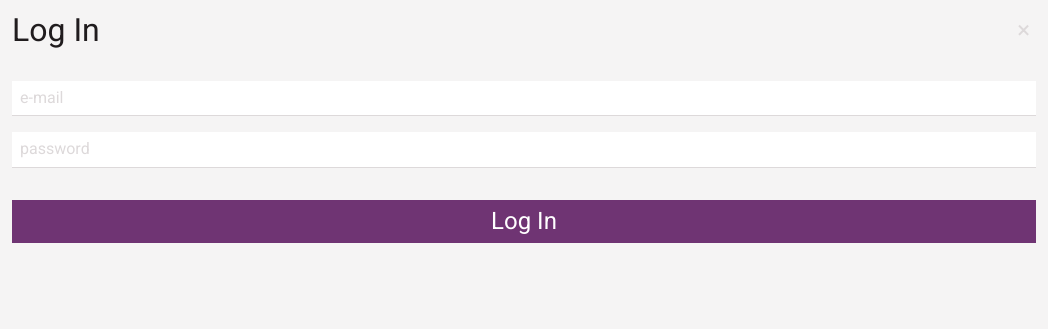
Test: <LoginForm/> › Should display error if email and password not provided
Step 1. Click the button with test id "submitButton" → (524, 221), box [12,200,1036,243]
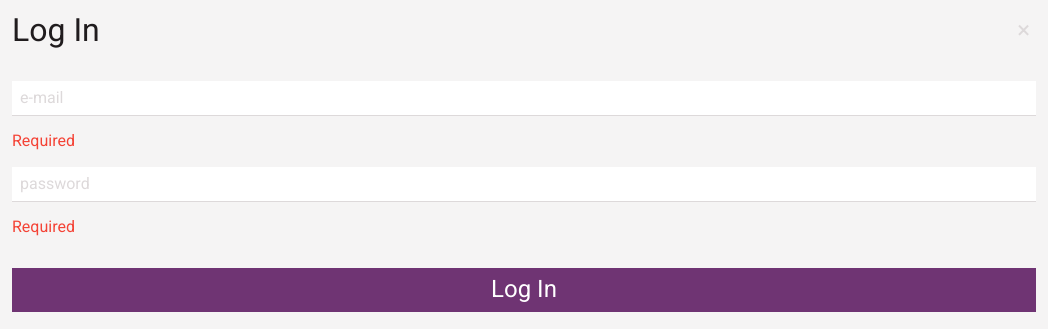
Expected: the text "Required" is shown 2 times, [12,131,75,150]; [12,217,75,236]
